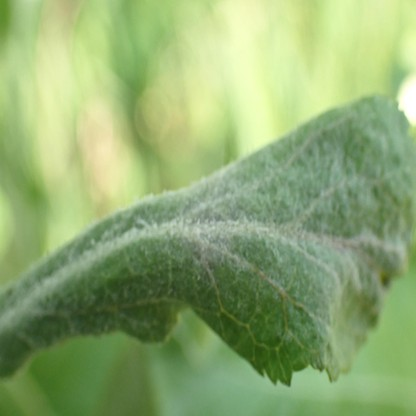powdery_mildew: (2, 94, 416, 382)
